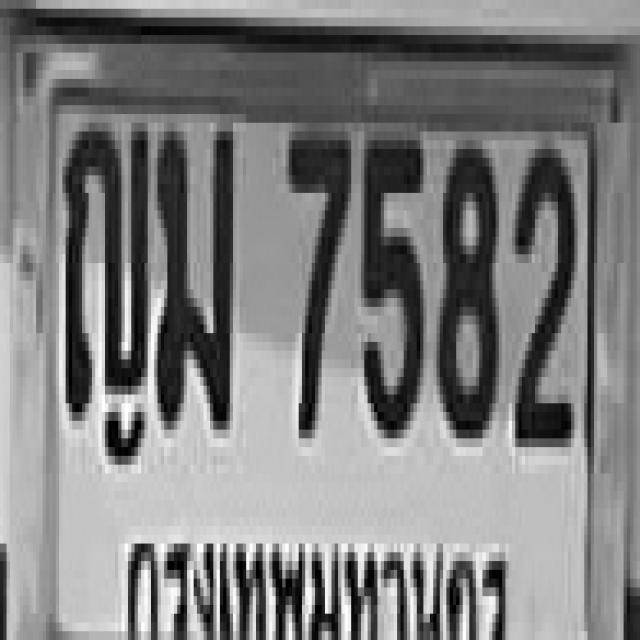2: (512, 140, 578, 450)
22YorYing: (62, 114, 150, 473)
42MorMa: (154, 123, 233, 438)
5: (358, 132, 426, 440)
7: (286, 123, 352, 443)
8: (433, 140, 500, 442)
Bangkok: (122, 509, 518, 640)
